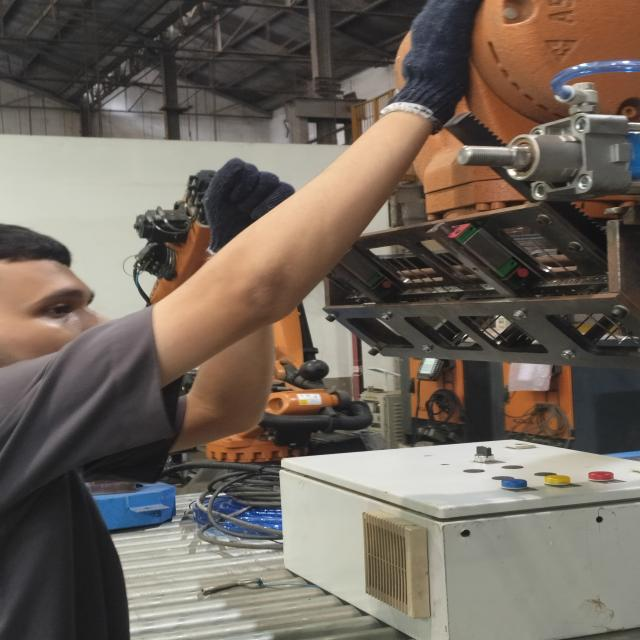Gloves-Detection: (383, 0, 473, 114), (190, 151, 290, 241)
